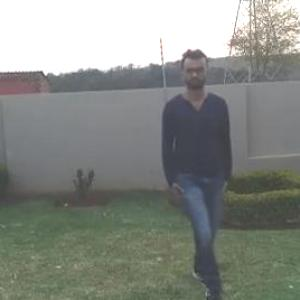follow: (158, 42, 233, 294)
